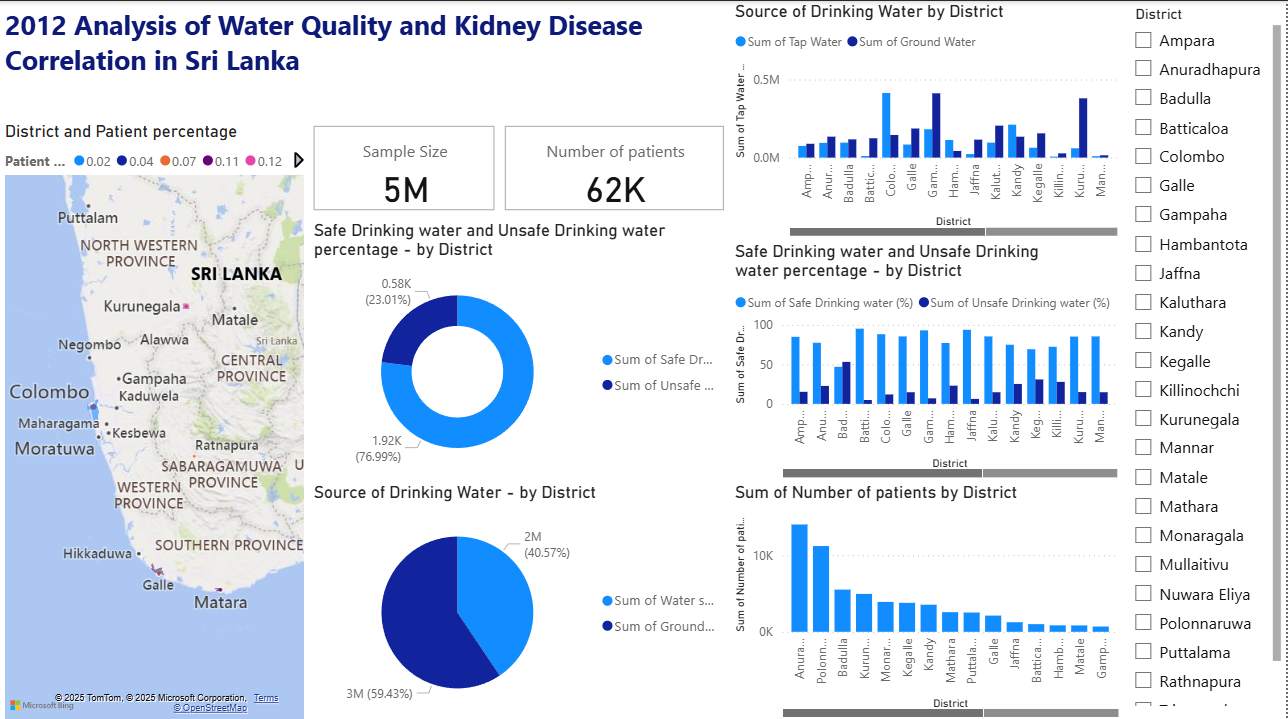

The dashboard page shown, as its layout file describes it:
{"tool":"powerbi","page":{"name":"Page 1","canvas":[1280,720],"ordinal":0},"visuals":[{"type":"clusteredColumnChart","title":"Source of Drinking Water by District","fields":{"Category":["drinking_water_sources_available_2012_0.District"],"Y":["Sum(drinking_water_sources_available_2012_0.Water supply system)","Sum(drinking_water_sources_available_2012_0.Ground Water)"]},"box":[726.5,0,390.6,238.8],"z":0},{"type":"clusteredColumnChart","title":"Safe Drinking water and Unsafe Drinking water percentage - by District","fields":{"Category":["source_of_drinking_water_in_rural_sector_1_1.District"],"Y":["Sum(source_of_drinking_water_in_rural_sector_1_1.Safe Drinking water (%))","Sum(source_of_drinking_water_in_rural_sector_1_1.Unsafe Drinking water (%))"]},"box":[726.5,238.8,390.6,240.1],"z":1000},{"type":"slicer","fields":{"Values":["Kidney (2).District"]},"box":[1117.1,0,163,706.6],"z":2000},{"type":"textbox","box":[0,0,692.9,87.1],"z":3000},{"type":"filledMap","fields":{"Category":["Kidney (2).District"],"Series":["Kidney.Patient percentage"]},"box":[0,119.4,307.3,600.8],"z":4000},{"type":"lineStackedColumnComboChart","fields":{"Category":["Kidney (2).District"],"Y":["Sum(Kidney.Number of patients)"]},"box":[726.5,478.9,391.8,238.8],"z":5000},{"type":"cardVisual","fields":{"Data":["Sum(drinking_water_sources_available_2012_0.Number of households)"]},"box":[307.3,119.4,190.3,94.5],"z":6000},{"type":"cardVisual","fields":{"Data":["Sum(Kidney.Number of patients)1"]},"box":[497.6,119.4,228.9,94.5],"z":7000},{"type":"pieChart","title":"Source of Drinking Water  -  by District","fields":{"Y":["Sum(drinking_water_sources_available_2012_0.Water supply system)","Sum(drinking_water_sources_available_2012_0.Ground Water)"]},"box":[307.3,478.9,419.2,238.8],"z":8000},{"type":"donutChart","title":"Safe Drinking water and Unsafe Drinking water percentage - by District","fields":{"Y":["Sum(source_of_drinking_water_in_rural_sector_1_1.Safe Drinking water (%))","Sum(source_of_drinking_water_in_rural_sector_1_1.Unsafe Drinking water (%))"]},"box":[307.3,217.7,419.2,261.2],"z":9000}]}

Visuals, with their boxes in screenshot pixels (x1, y1, x2, y2), scaled from the page's 1280x720 canvas onto the 1288x719 screenshot:
"Source of Drinking Water by District" clusteredColumnChart: x1=731 y1=0 x2=1124 y2=238
"Safe Drinking water and Unsafe Drinking water percentage - by District" clusteredColumnChart: x1=731 y1=238 x2=1124 y2=478
slicer - Kidney (2).District: x1=1124 y1=0 x2=1287 y2=706
textbox: x1=0 y1=0 x2=697 y2=87
filledMap - Kidney (2).District x Kidney.Patient percentage: x1=0 y1=119 x2=309 y2=718
lineStackedColumnComboChart - Kidney (2).District x Sum(Kidney.Number of patients): x1=731 y1=478 x2=1125 y2=717
cardVisual - Sum(drinking_water_sources_available_2012_0.Number of households): x1=309 y1=119 x2=501 y2=214
cardVisual - Sum(Kidney.Number of patients)1: x1=501 y1=119 x2=731 y2=214
"Source of Drinking Water  -  by District" pieChart: x1=309 y1=478 x2=731 y2=717
"Safe Drinking water and Unsafe Drinking water percentage - by District" donutChart: x1=309 y1=217 x2=731 y2=478
